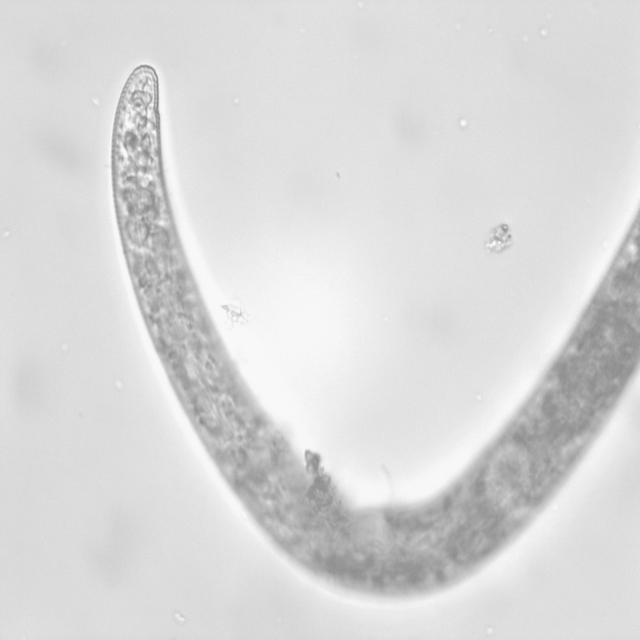Helicotylenchus: (109, 58, 250, 439)
